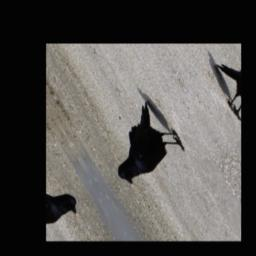Crow: (90, 95, 191, 190)
